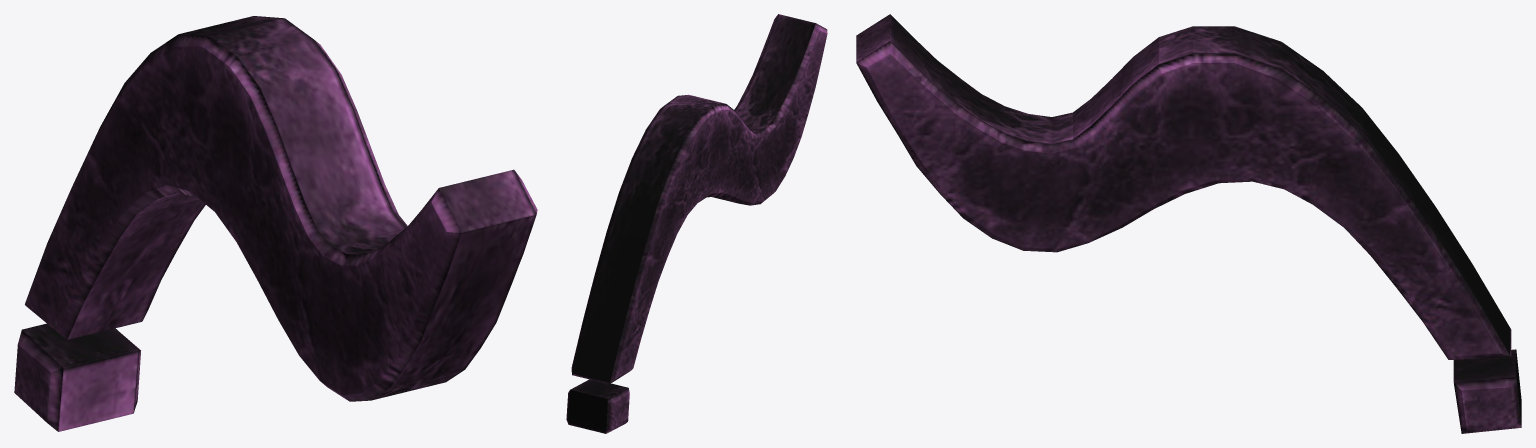
Rendered from end3.obj.
3 renders of one model, left to right at view 1: azimuth 30°, elevation 25°; view 2: azimuth 150°, elevation 25°; view 3: azimuth 270°, elevation 25°, orthographic. The views are drawn at different scales.
Bounding box in the file's own units: 3 × 16.44 × 25.25.
Materials: 1 (1 with a texture image).
